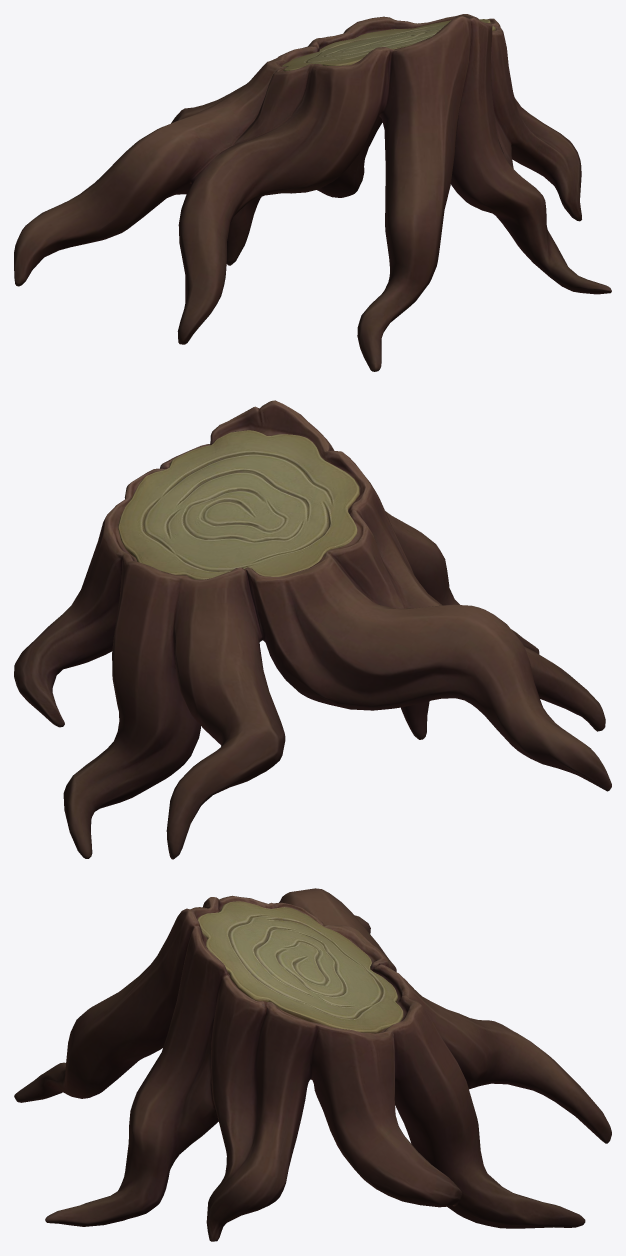
Rendered from bog_tree_trunk_a.glb.
3 renders of one model, top to bottom at view 1: azimuth 30°, elevation 25°; view 2: azimuth 150°, elevation 25°; view 3: azimuth 270°, elevation 25°, orthographic. The views are drawn at different scales.
Visible parts, largest first — view 1: SM_XBOG_STS_TreeTrunk_01A; view 2: SM_XBOG_STS_TreeTrunk_01A; view 3: SM_XBOG_STS_TreeTrunk_01A.
Boxes of the visible parts, left/top/right/bottom form: SM_XBOG_STS_TreeTrunk_01A: left=14, top=14, right=611, bottom=371; SM_XBOG_STS_TreeTrunk_01A: left=14, top=400, right=611, bottom=859; SM_XBOG_STS_TreeTrunk_01A: left=14, top=888, right=611, bottom=1241.
Bounding box in the file's own units: 10.79 × 5.77 × 9.85.
1 material, 1 textured.
